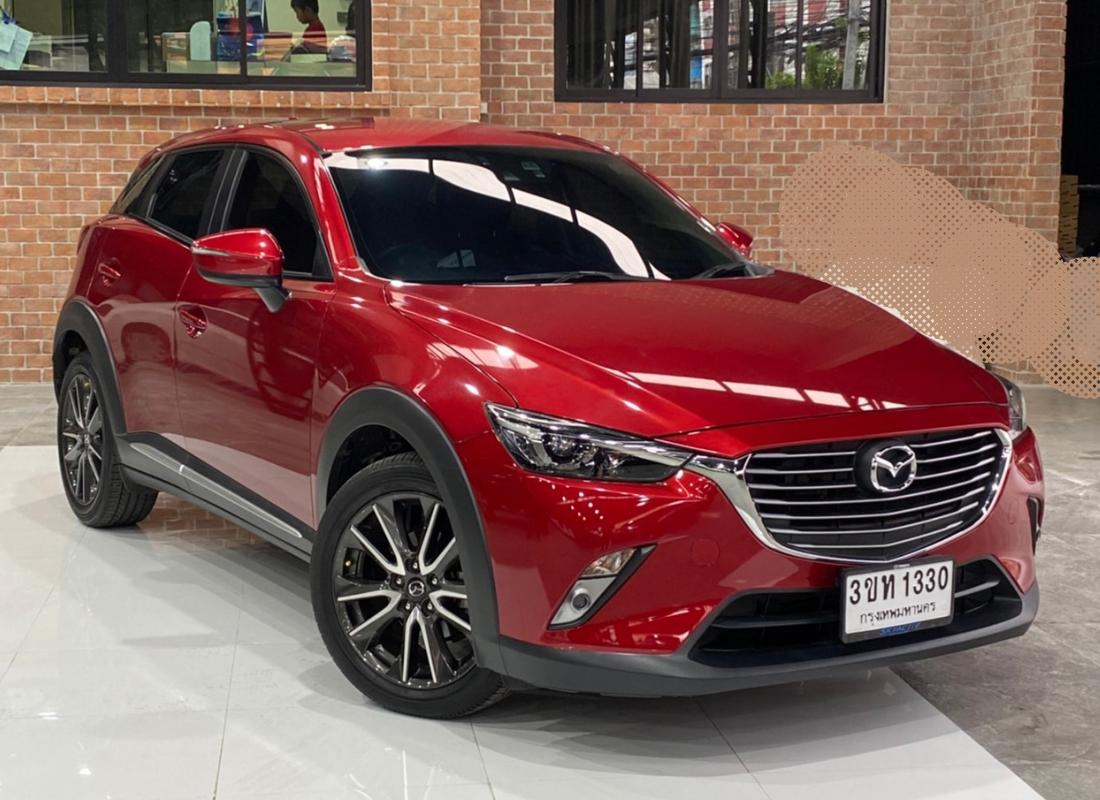license-plate: (835, 556, 958, 644)
